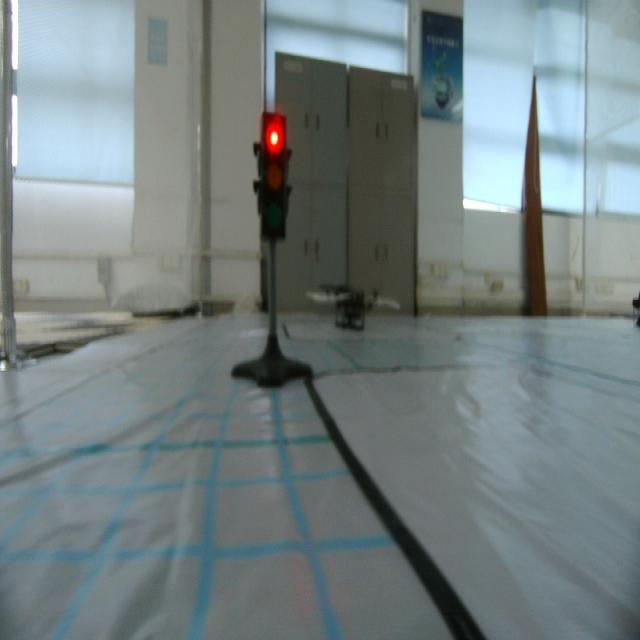red: (252, 108, 295, 249)
